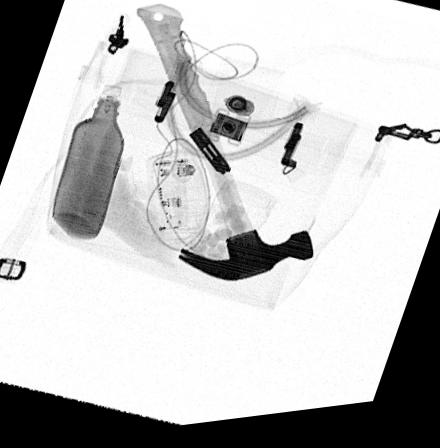Hammer: (136, 7, 314, 287)
